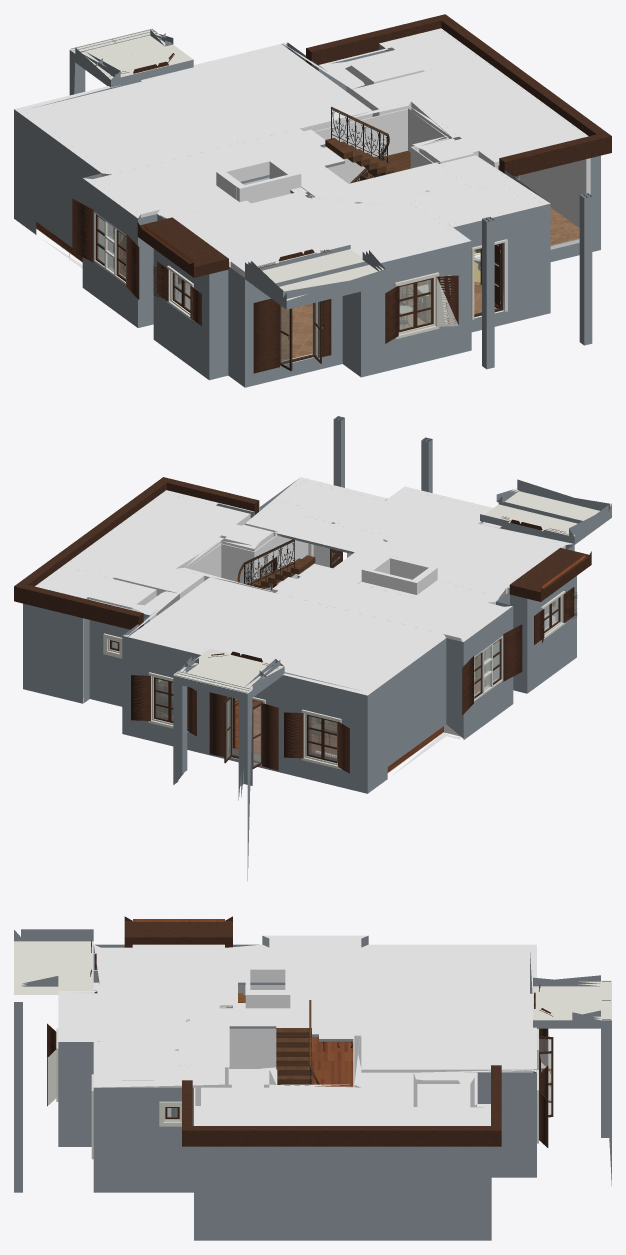
The model's file is level-1.glb.
3 views of the same model, one above another, from view 1: azimuth 30°, elevation 25°; view 2: azimuth 150°, elevation 25°; view 3: azimuth 270°, elevation 25° (orthographic). The views are drawn at different scales.
Parts seen in each view (by area): view 1: F1 | KAT 1$TAVAN, F1 | KAT 1$DUVAR, F1 | ek dalgalar, F1 | ÇATI ALIN, F1 | KAT 1$DUVAR KAPLAMA, F1 | PENCERE_KAPI$SHUTTER, F1 | KAT 1$ZEMİN KAPLAMA, Lift shaft continuous walls | F1, F1 | PENCERE_KAPI$CAM, F1 | PENCERE_KAPI$ÇERÇEVE, F1 | PENCERE_KAPI$SHUTTER AİM, F1 | KAT 1$MERDİVEN (+3 smaller); view 2: F1 | KAT 1$TAVAN, F1 | KAT 1$DUVAR, F1 | ek dalgalar, F1 | ÇATI ALIN, F1 | PENCERE_KAPI$SHUTTER, F1 | KAT 1$DUVAR KAPLAMA, F1 | PENCERE_KAPI$CAM, Lift shaft continuous walls | F1, F1 | PENCERE_KAPI$ÇERÇEVE, F1 | KAT 1$ZEMİN KAPLAMA, F1 | PENCERE_KAPI$CEPHE FRAME, F1 | PENCERE_KAPI$SHUTTER AİM (+3 smaller); view 3: F1 | KAT 1$TAVAN, F1 | KAT 1$DUVAR, F1 | ÇATI ALIN, F1 | ek dalgalar, F1 | KAT 1$DUVAR KAPLAMA, F1 | KAT 1$MERDİVEN, Lift shaft continuous walls | F1, F1 | PENCERE_KAPI$SHUTTER, F1 | KAT 1$ZEMİN KAPLAMA, F1 | PENCERE_KAPI$CEPHE FRAME.
Part boxes in pixels (left/top/right/bottom): F1 | KAT 1$TAVAN: left=24, top=31, right=586, bottom=274; F1 | KAT 1$DUVAR: left=14, top=28, right=600, bottom=387; F1 | ek dalgalar: left=69, top=28, right=392, bottom=309; F1 | ÇATI ALIN: left=137, top=14, right=611, bottom=277; F1 | KAT 1$DUVAR KAPLAMA: left=100, top=48, right=590, bottom=361; F1 | PENCERE_KAPI$SHUTTER: left=72, top=54, right=458, bottom=373; F1 | KAT 1$ZEMİN KAPLAMA: left=36, top=207, right=579, bottom=360; Lift shaft continuous walls | F1: left=216, top=157, right=301, bottom=203; F1 | PENCERE_KAPI$CAM: left=97, top=216, right=431, bottom=329; F1 | PENCERE_KAPI$ÇERÇEVE: left=95, top=61, right=433, bottom=332; F1 | PENCERE_KAPI$SHUTTER AİM: left=73, top=53, right=455, bottom=369; F1 | KAT 1$MERDİVEN: left=325, top=138, right=410, bottom=182; F1 | KAT 1$TAVAN: left=36, top=481, right=565, bottom=691; F1 | KAT 1$DUVAR: left=23, top=416, right=576, bottom=793; F1 | ek dalgalar: left=173, top=479, right=611, bottom=880; F1 | ÇATI ALIN: left=14, top=477, right=591, bottom=629; F1 | PENCERE_KAPI$SHUTTER: left=131, top=516, right=574, bottom=773; F1 | KAT 1$DUVAR KAPLAMA: left=83, top=516, right=565, bottom=747; F1 | PENCERE_KAPI$CAM: left=112, top=598, right=558, bottom=760; Lift shaft continuous walls | F1: left=361, top=554, right=437, bottom=594; F1 | PENCERE_KAPI$ÇERÇEVE: left=110, top=519, right=560, bottom=763; F1 | KAT 1$ZEMİN KAPLAMA: left=163, top=680, right=485, bottom=772; F1 | PENCERE_KAPI$CEPHE FRAME: left=103, top=520, right=565, bottom=769; F1 | PENCERE_KAPI$SHUTTER AİM: left=134, top=531, right=577, bottom=769; F1 | KAT 1$TAVAN: left=65, top=938, right=529, bottom=1125; F1 | KAT 1$DUVAR: left=14, top=935, right=536, bottom=1240; F1 | ÇATI ALIN: left=124, top=916, right=501, bottom=1146; F1 | ek dalgalar: left=14, top=929, right=611, bottom=1185; F1 | KAT 1$DUVAR KAPLAMA: left=97, top=985, right=529, bottom=1116; F1 | KAT 1$MERDİVEN: left=276, top=1028, right=311, bottom=1085; Lift shaft continuous walls | F1: left=245, top=966, right=290, bottom=1008; F1 | PENCERE_KAPI$SHUTTER: left=47, top=941, right=552, bottom=1147; F1 | KAT 1$ZEMİN KAPLAMA: left=312, top=1037, right=353, bottom=1086; F1 | PENCERE_KAPI$CEPHE FRAME: left=56, top=951, right=538, bottom=1159.
Size of the model in its own units: 13.99 by 7.43 by 16.87.
60 materials, 18 textured.
